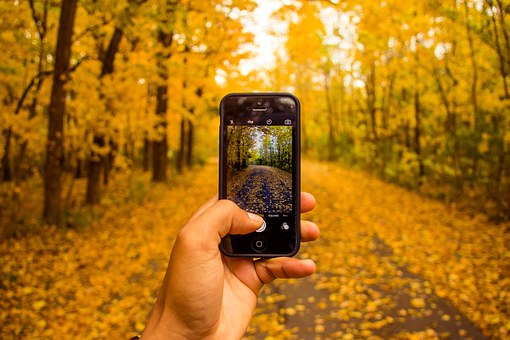mobile: (210, 90, 305, 266)
